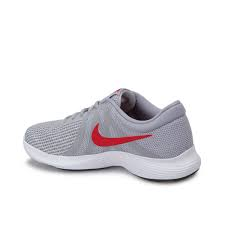nike: (91, 122, 153, 146)
